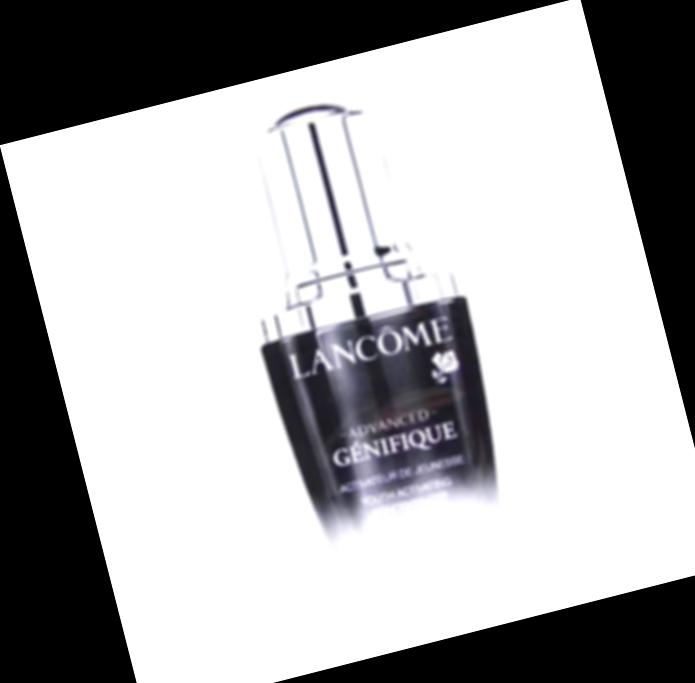cosmetic: (205, 77, 540, 631)
